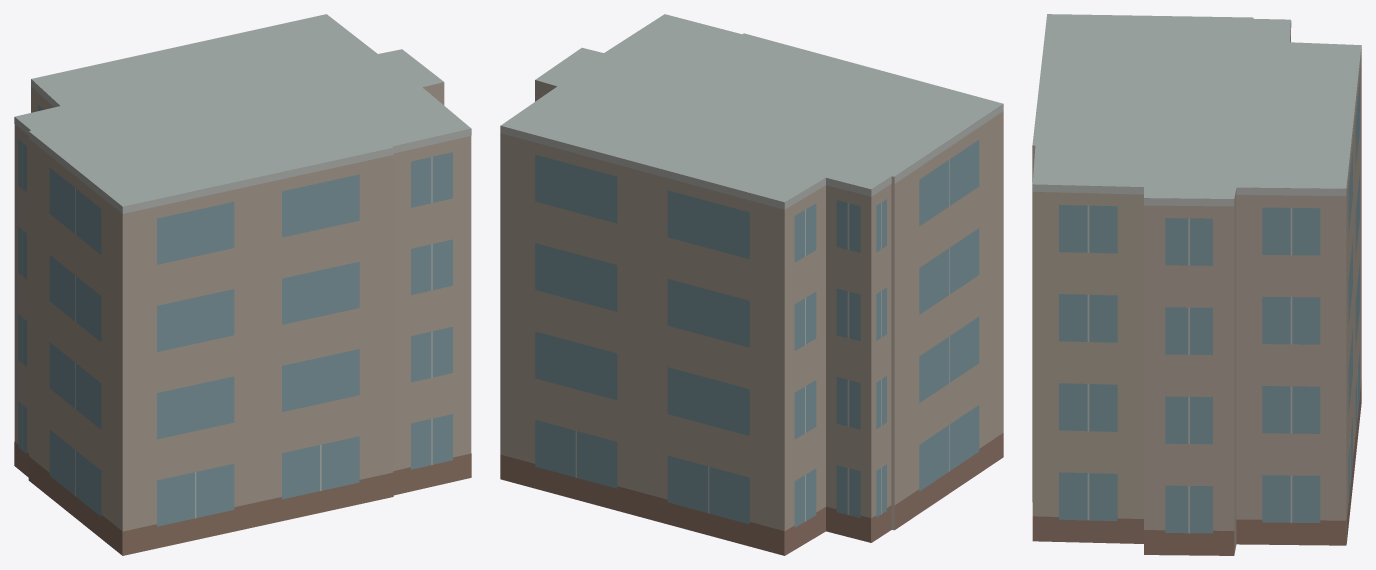
Rendered from survey-upis-32835331.glb.
3 renders of one model, left to right at view 1: azimuth 30°, elevation 25°; view 2: azimuth 150°, elevation 25°; view 3: azimuth 270°, elevation 25°, orthographic. The views are drawn at different scales.
Visible parts, largest first — view 1: survey-upis-32835331.tmp; view 2: survey-upis-32835331.tmp; view 3: survey-upis-32835331.tmp.
Part boxes in pixels (x1,y1,x2,y2): survey-upis-32835331.tmp: [14, 14, 471, 555]; survey-upis-32835331.tmp: [500, 14, 1003, 555]; survey-upis-32835331.tmp: [1032, 14, 1361, 555].
Bounding box in the file's own units: 13.02 × 11.7 × 9.79.
